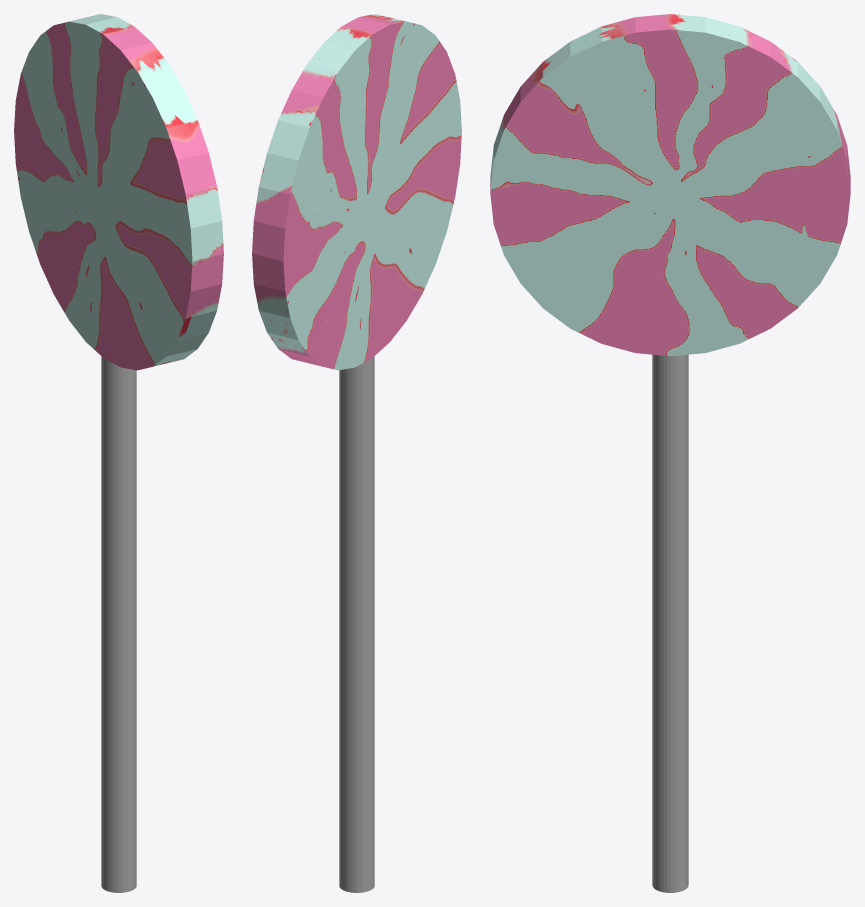
File: lolipop3tp.fbx
3 renders of one model, left to right at view 1: azimuth 30°, elevation 25°; view 2: azimuth 150°, elevation 25°; view 3: azimuth 270°, elevation 25°, orthographic.
Parts seen in each view (by area): view 1: Cylinder.001, Cylinder; view 2: Cylinder.001, Cylinder; view 3: Cylinder.001, Cylinder.
Part boxes in pixels (<box>): Cylinder.001: <box>14,14,223,370</box>; Cylinder: <box>101,356,136,892</box>; Cylinder.001: <box>252,14,461,370</box>; Cylinder: <box>339,356,374,892</box>; Cylinder.001: <box>490,14,850,356</box>; Cylinder: <box>652,354,688,892</box>.
Size of the model in its own units: 204 by 5286 by 2000.
Materials: 2 (1 with a texture image).
